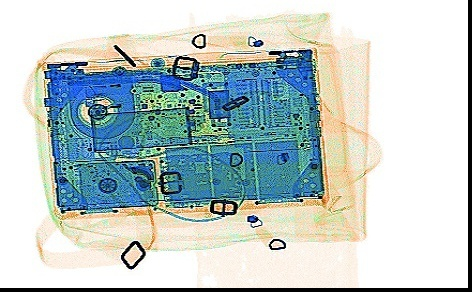zippooil: (89, 105, 200, 153)
